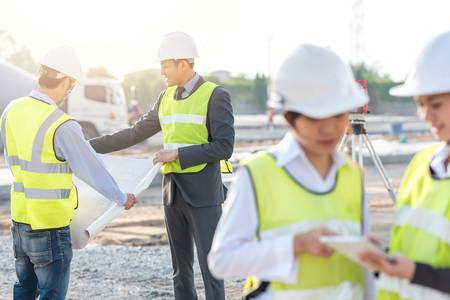casco: (265, 41, 371, 119), (387, 28, 450, 97), (37, 43, 85, 85), (151, 30, 201, 63)
